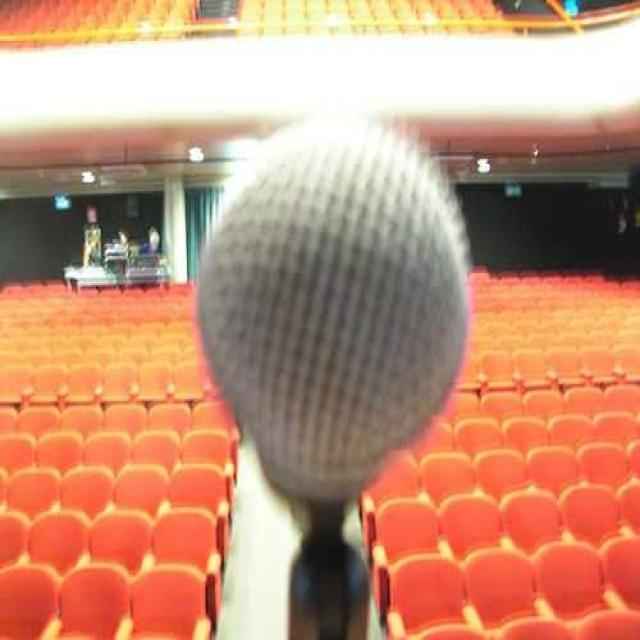microphone: (197, 124, 476, 506)
